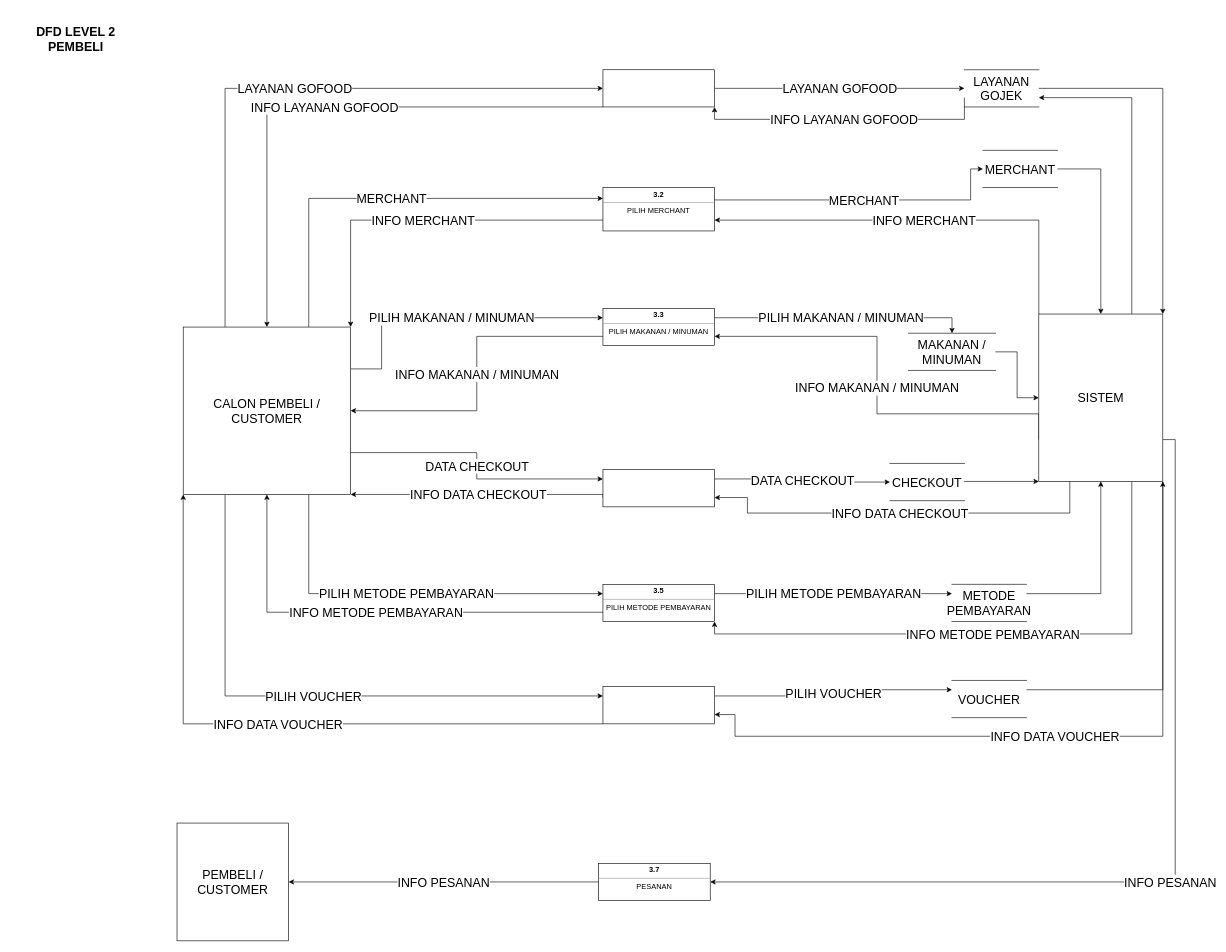
This 1226x952 diagram has some shape labels left out. The centre of each missing label's shape, as x and y in pixels:
"3.1 PILIH LAYANAN GOFOOD" goes at (x=658, y=88).
"3.4 CHECKOUT" goes at (x=658, y=488).
"3.6 PILIH VOUCHER" goes at (x=658, y=705).
